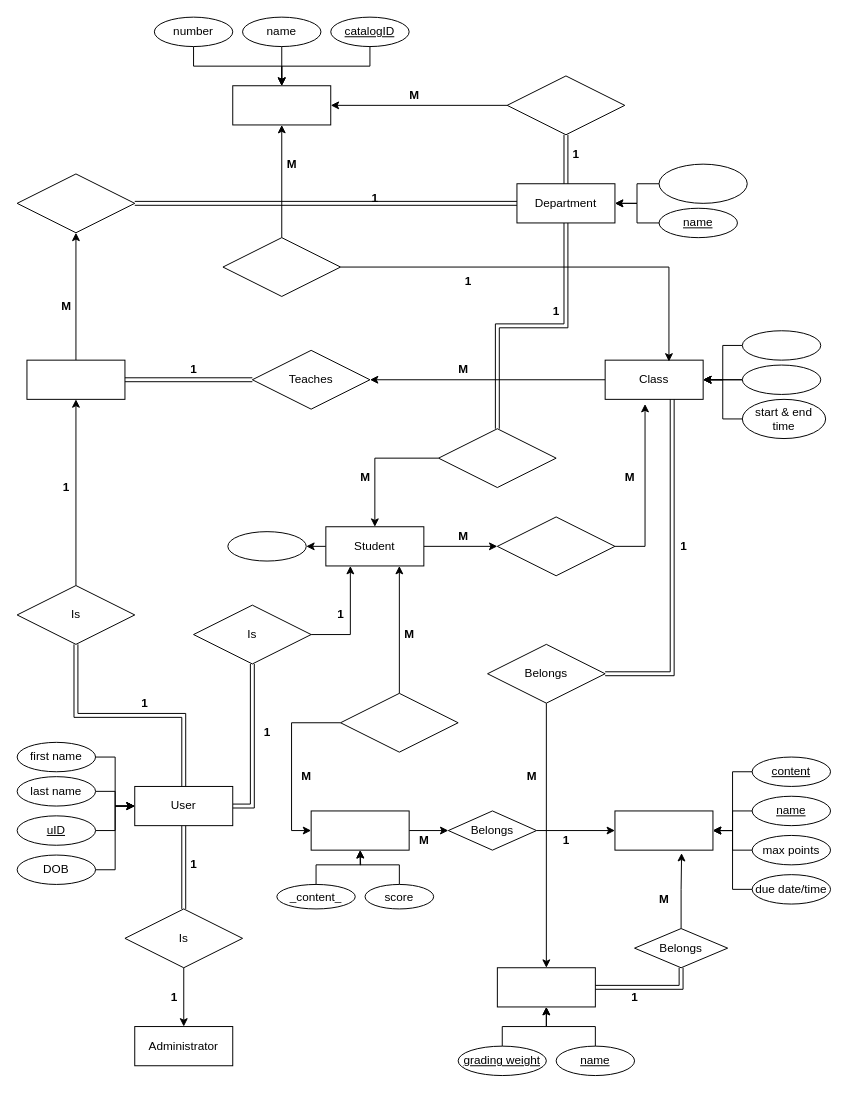
The diagram is 848 pixels wide and 1093 high, and some of its shapes have lost their labels. Each missing label, with the box of its shape:
Assignment: (614, 810, 713, 850)
Assignment Category: (496, 967, 595, 1007)
Course: (232, 85, 331, 125)
Enrolled in: (496, 516, 615, 576)
grade: (227, 531, 306, 561)
Listed: (506, 75, 625, 135)
location: (741, 330, 821, 360)
Majors in: (438, 428, 556, 488)
Offering: (222, 237, 341, 296)
Professor: (26, 359, 125, 399)
semester: (741, 364, 821, 394)
subject abbreviation: (658, 163, 747, 203)
Submission: (310, 810, 409, 850)
Submits: (340, 692, 458, 752)
Works in: (16, 173, 135, 233)
